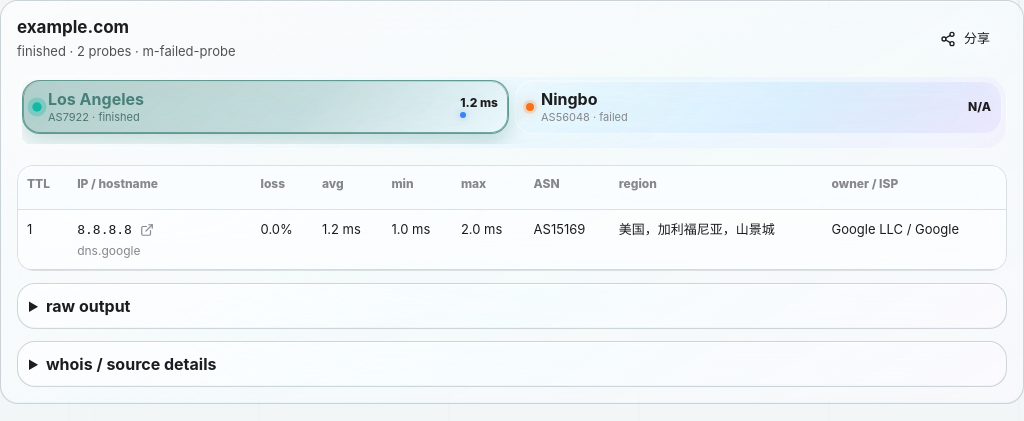
Test case: ResultsView › shows failed probe counts and raw failure reason
The width and height of the screenshot is (1024, 421).
What coordinates should you click on to do the following:
click the tab "Ningbo AS56048 · failed N/A"
I would click on:
 (569, 99)
Its box is [516,81,1001,133].
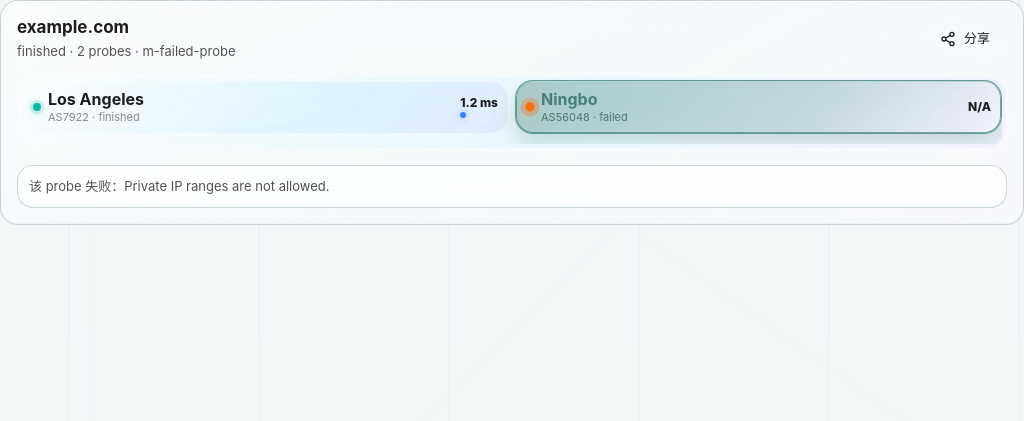
Now the text "该 probe 失败：Private IP ranges are not allowed." is shown, box [17,165,1007,208]
